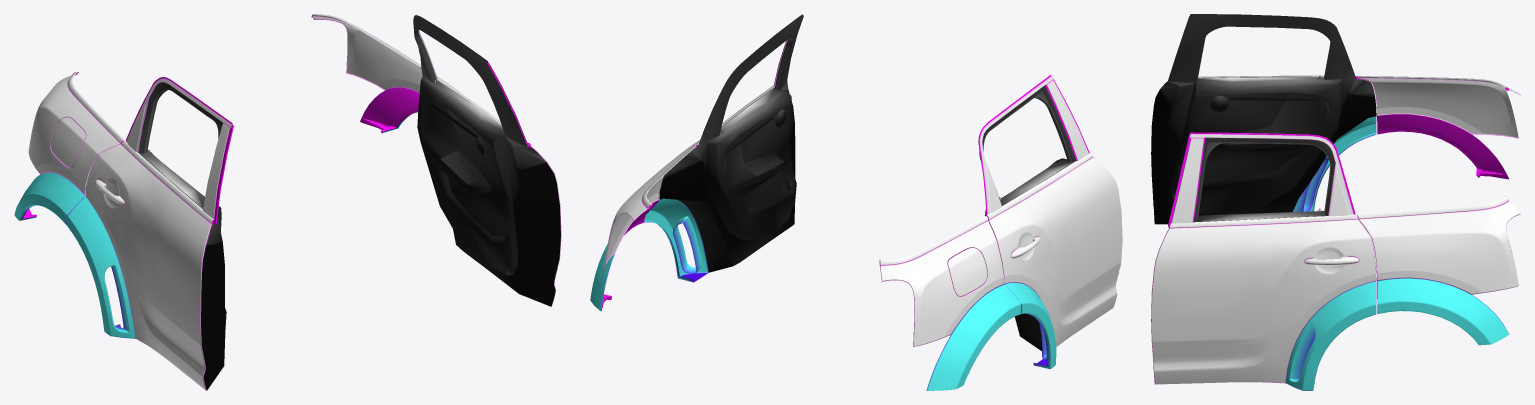
Rendered from Car_Mini_CountrymanJCW_2017_FendersR_SetD_AltA.fbx.
3 renders of one model, left to right at view 1: azimuth 30°, elevation 25°; view 2: azimuth 150°, elevation 25°; view 3: azimuth 270°, elevation 25°, orthographic. The views are drawn at different scales.
Visible parts, largest first — view 1: FendersR 6; view 2: FendersR 6; view 3: FendersR 6.
Part boxes in pixels (x1,y1,x2,y2): FendersR 6: (14,14,561,390); FendersR 6: (590,14,1122,390); FendersR 6: (1151,14,1520,390).
Bounding box in the file's own units: 1.93 × 1.14 × 1.66.
